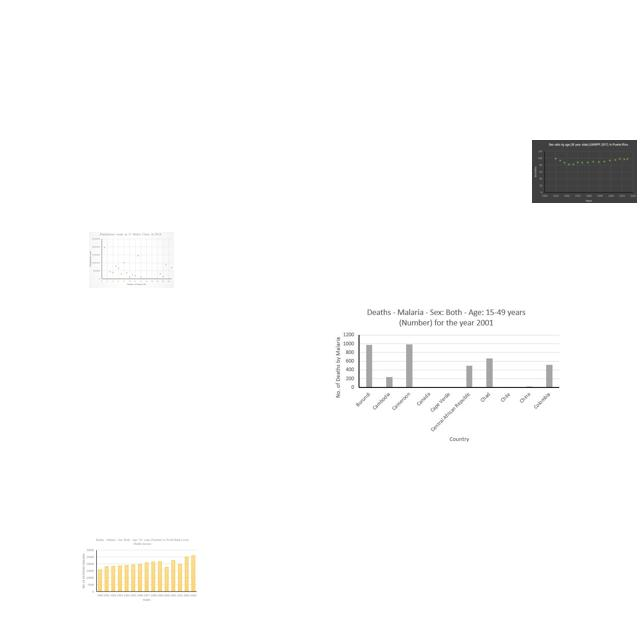Graph: (330, 305, 562, 445), (79, 536, 199, 603), (532, 140, 637, 203), (89, 232, 174, 288)
